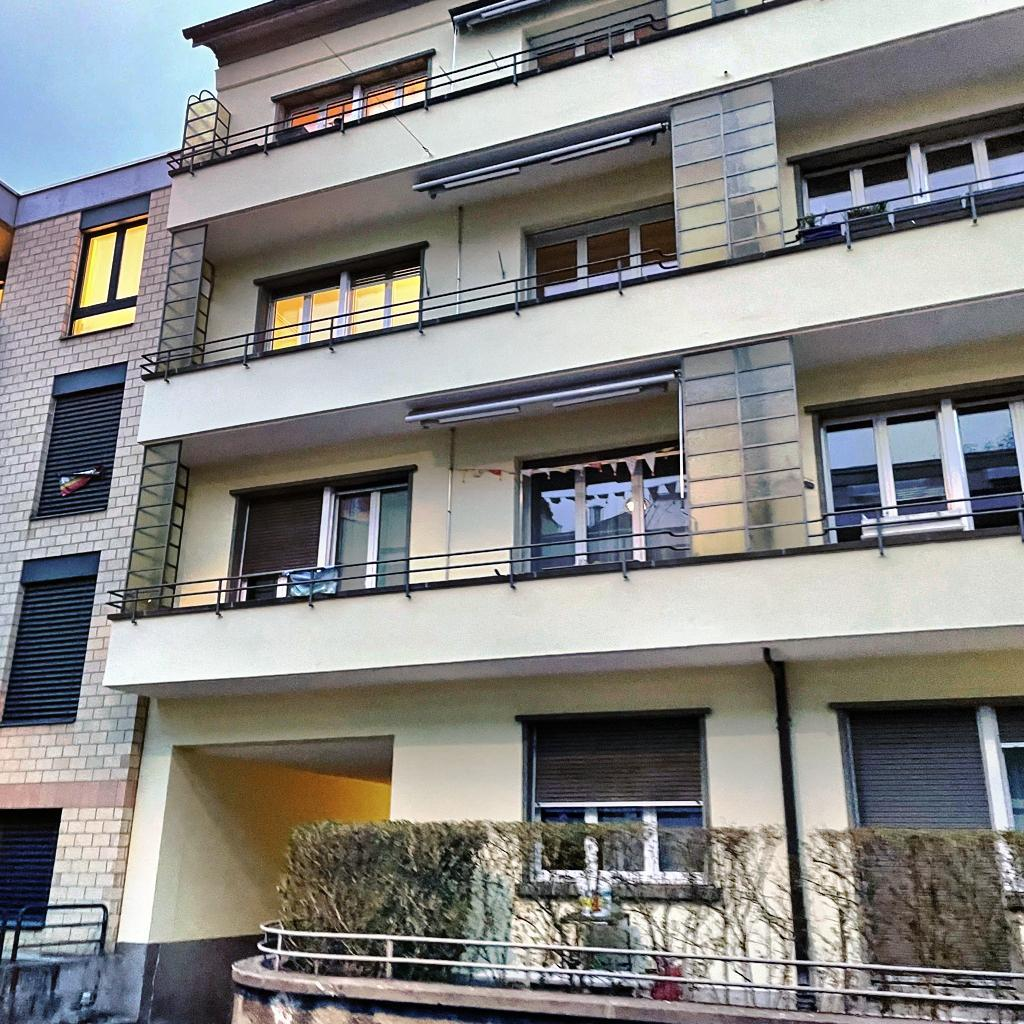balcony-fence: (138, 168, 1024, 384), (103, 491, 1024, 627), (165, 0, 808, 179)
facade: (0, 0, 1024, 1024)
fence: (229, 917, 1024, 1024), (0, 902, 114, 1024)
vegetation: (278, 818, 1024, 1024)
window: (819, 389, 1024, 543), (528, 713, 711, 877), (799, 109, 1024, 228), (226, 470, 413, 602), (521, 441, 689, 571), (0, 549, 102, 727), (32, 361, 129, 519), (264, 257, 422, 352), (526, 202, 679, 300), (67, 212, 150, 337), (286, 68, 426, 136), (0, 807, 63, 930), (995, 706, 1024, 886)
